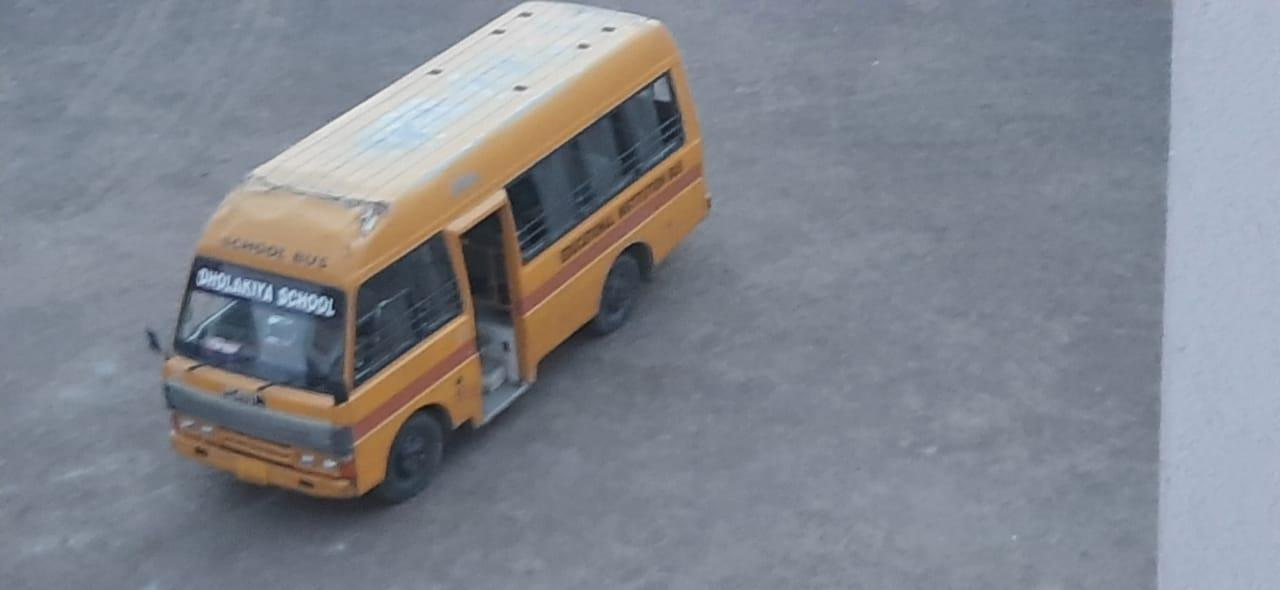Bus: (153, 12, 709, 511)
